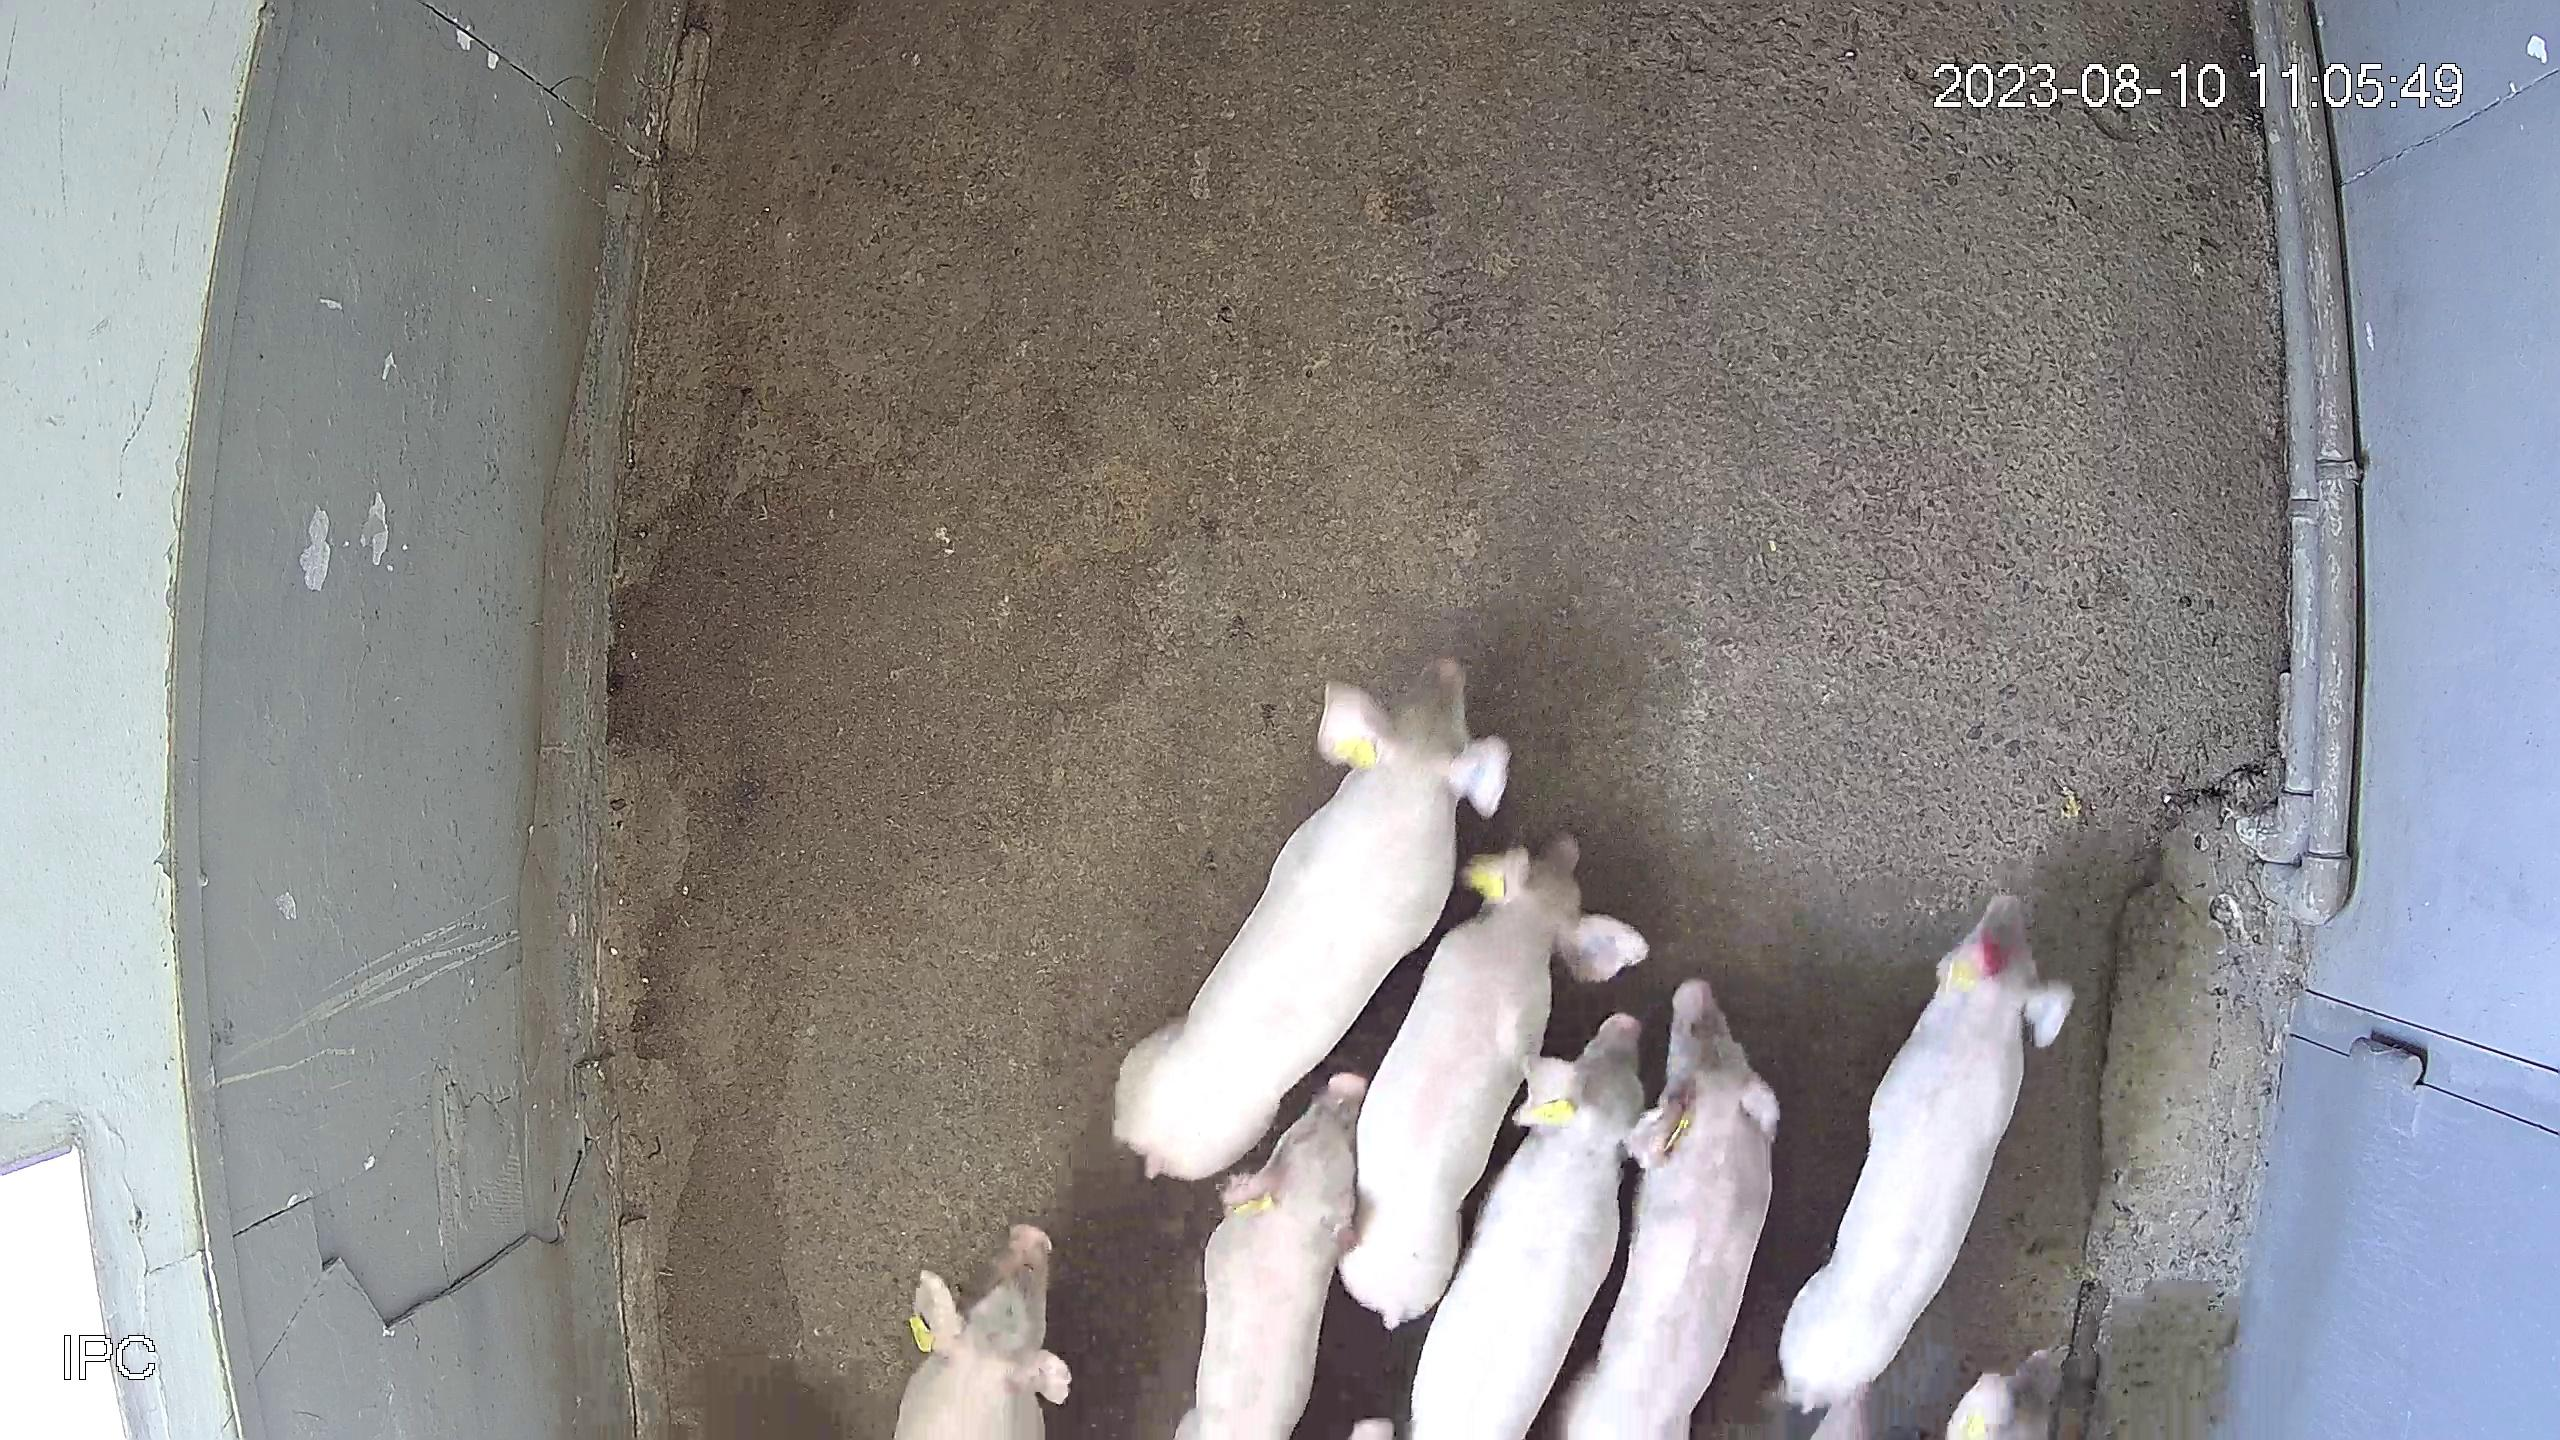Pig: (1115, 656, 1510, 1178), (1340, 833, 1649, 1326), (1783, 893, 2075, 1410), (1560, 979, 1781, 1440), (1412, 1013, 1646, 1440), (1176, 1074, 1363, 1440), (893, 1225, 1071, 1440)
